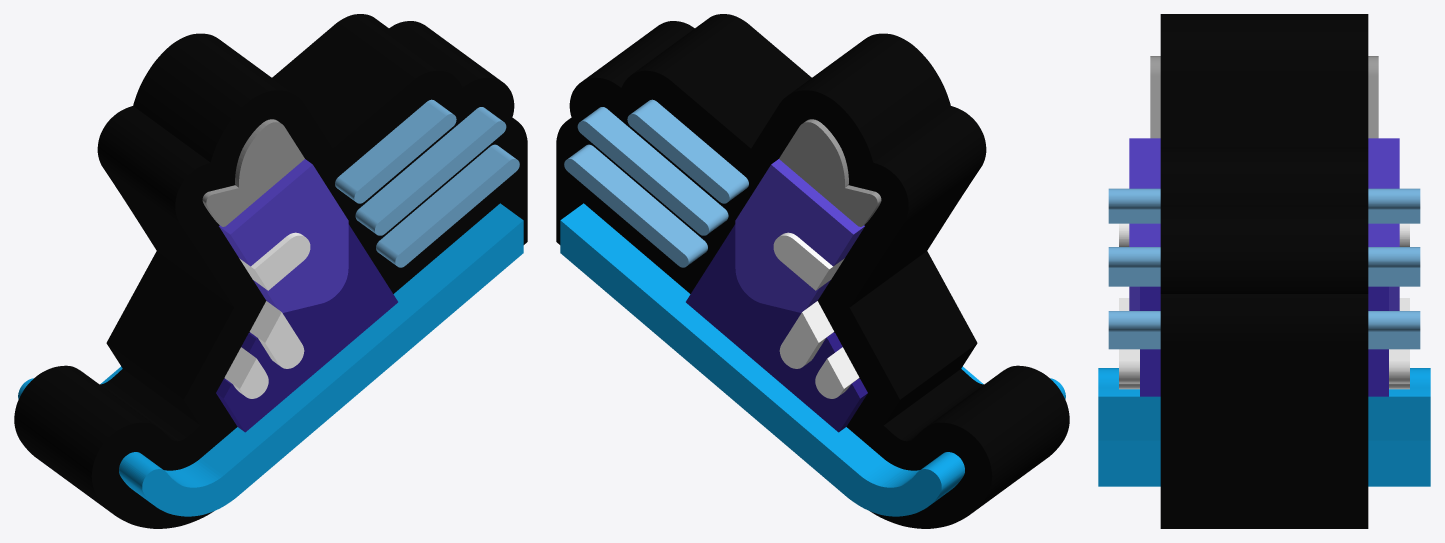
3 renders of one model, left to right at view 1: azimuth 30°, elevation 25°; view 2: azimuth 150°, elevation 25°; view 3: azimuth 270°, elevation 25°, orthographic. The views are drawn at different scales.
Parts seen in each view (by area): view 1: U+1F3BF_layer00_obj00, U+1F3BF_layer06_obj00, U+1F3BF_layer05_obj00, U+1F3BF_layer03_obj00, U+1F3BF_layer02_obj00, U+1F3BF_layer04_obj00, U+1F3BF_layer01_obj00; view 2: U+1F3BF_layer00_obj00, U+1F3BF_layer06_obj00, U+1F3BF_layer05_obj00, U+1F3BF_layer03_obj00, U+1F3BF_layer02_obj00, U+1F3BF_layer04_obj00, U+1F3BF_layer01_obj00; view 3: U+1F3BF_layer00_obj00, U+1F3BF_layer06_obj00, U+1F3BF_layer05_obj00, U+1F3BF_layer03_obj00, U+1F3BF_layer02_obj00, U+1F3BF_layer04_obj00, U+1F3BF_layer01_obj00.
Part boxes in pixels (x1,y1,x2,y2): U+1F3BF_layer00_obj00: (14,14,527,528); U+1F3BF_layer06_obj00: (18,203,523,516); U+1F3BF_layer05_obj00: (335,99,519,267); U+1F3BF_layer03_obj00: (219,159,348,312); U+1F3BF_layer02_obj00: (216,224,397,432); U+1F3BF_layer04_obj00: (224,232,310,398); U+1F3BF_layer01_obj00: (202,119,304,226); U+1F3BF_layer00_obj00: (556,14,1069,528); U+1F3BF_layer06_obj00: (560,203,1065,516); U+1F3BF_layer05_obj00: (564,99,748,267); U+1F3BF_layer03_obj00: (735,159,864,312); U+1F3BF_layer02_obj00: (686,224,867,432); U+1F3BF_layer04_obj00: (773,232,859,398); U+1F3BF_layer01_obj00: (779,119,881,226); U+1F3BF_layer00_obj00: (1160,14,1368,528); U+1F3BF_layer06_obj00: (1098,368,1430,486); U+1F3BF_layer05_obj00: (1108,188,1420,349); U+1F3BF_layer03_obj00: (1129,138,1399,310); U+1F3BF_layer02_obj00: (1140,286,1388,396); U+1F3BF_layer04_obj00: (1119,223,1409,389); U+1F3BF_layer01_obj00: (1150,56,1378,138).
Bounding box in the file's own units: 0.6491 × 0.588 × 0.32.
